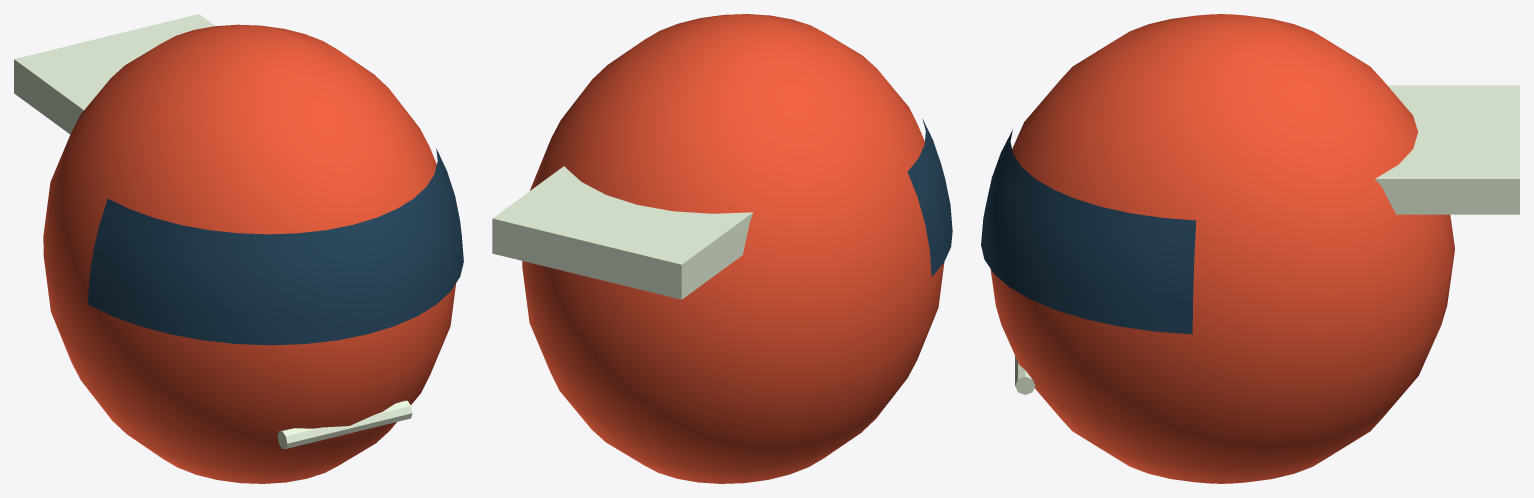
The model's file is aero.glb.
3 renders of one model, left to right at view 1: azimuth 30°, elevation 25°; view 2: azimuth 150°, elevation 25°; view 3: azimuth 270°, elevation 25°, orthographic. The views are drawn at different scales.
Visible parts, largest first — view 1: Helmet; view 2: Helmet; view 3: Helmet.
Boxes of the visible parts, bbox=[...] form: Helmet: bbox=[14, 14, 463, 483]; Helmet: bbox=[492, 14, 952, 483]; Helmet: bbox=[981, 14, 1519, 483].
Bounding box in the file's own units: 0.25 × 0.284 × 0.316.
